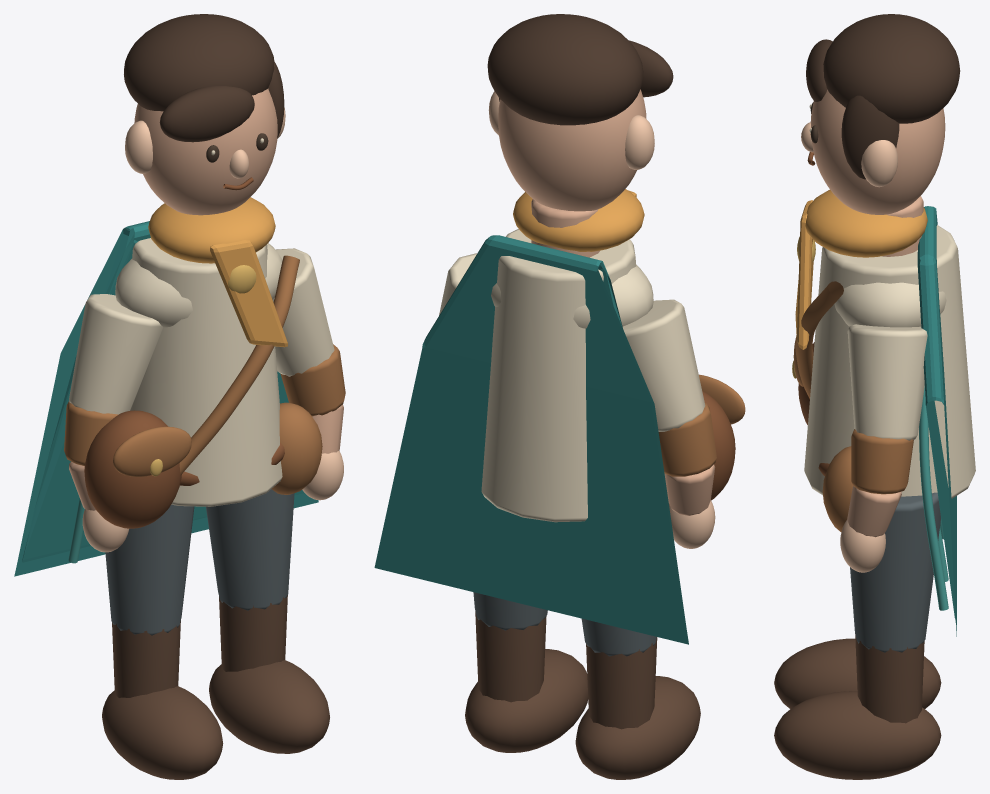
File: traveler.glb
The picture shows the model from 3 angles, left to right: view 1: azimuth 30°, elevation 25°; view 2: azimuth 150°, elevation 25°; view 3: azimuth 270°, elevation 25°; orthographic projection. The views are drawn at different scales.
Visible parts, largest first — view 1: Ivory tunic, Teal travel cloak, Hair cap, Face, Boot | rounded toe.001, Boot | rounded toe, Trouser leg.001, Trouser leg, Linen sleeve, Satchel body, Scarf wrap, Linen sleeve.001 (+17 smaller); view 2: Teal travel cloak, Ivory tunic, Hair cap, Face, Boot | rounded toe, Boot | rounded toe.001, Linen sleeve, Boot shaft, Boot shaft.001, Scarf wrap, Leather bracer, Shoulders (+10 smaller); view 3: Ivory tunic, Hair cap, Boot | rounded toe.001, Trouser leg.001, Linen sleeve.001, Face, Teal travel cloak, Scarf wrap, Boot | rounded toe, Boot shaft.001, Shoulders, Leather bracer.001 (+10 smaller).
Part boxes in pixels (<box>): Ivory tunic: <box>130,238,282,506</box>; Teal travel cloak: <box>14,221,318,576</box>; Hair cap: <box>124,14,274,111</box>; Face: <box>134,88,277,215</box>; Boot | rounded toe.001: <box>209,660,329,753</box>; Boot | rounded toe: <box>102,686,223,779</box>; Trouser leg.001: <box>206,489,294,610</box>; Trouser leg: <box>105,504,194,635</box>; Linen sleeve: <box>69,294,162,414</box>; Satchel body: <box>84,410,181,528</box>; Scarf wrap: <box>148,197,275,263</box>; Linen sleeve.001: <box>272,248,334,376</box>; Teal travel cloak: <box>374,235,688,644</box>; Ivory tunic: <box>481,229,636,522</box>; Hair cap: <box>487,14,643,125</box>; Face: <box>498,89,646,211</box>; Boot | rounded toe: <box>575,676,700,779</box>; Boot | rounded toe.001: <box>465,649,588,752</box>; Linen sleeve: <box>622,299,705,431</box>; Boot shaft: <box>586,637,657,729</box>; Boot shaft.001: <box>475,611,546,702</box>; Scarf wrap: <box>513,189,644,251</box>; Leather bracer: <box>658,403,716,476</box>; Shoulders: <box>491,265,653,328</box>; Ivory tunic: <box>804,225,975,498</box>; Hair cap: <box>823,14,960,123</box>; Boot | rounded toe.001: <box>774,691,941,779</box>; Trouser leg.001: <box>850,492,940,652</box>; Linen sleeve.001: <box>847,324,927,440</box>; Face: <box>810,89,945,214</box>; Teal travel cloak: <box>917,206,956,636</box>; Scarf wrap: <box>805,189,927,257</box>; Boot | rounded toe: <box>774,638,941,708</box>; Boot shaft.001: <box>855,634,924,723</box>; Shoulders: <box>834,282,946,327</box>; Leather bracer.001: <box>851,429,913,494</box>.
Size of what is drawn, in the model's own units: 1.31 by 2.96 by 0.7482.
